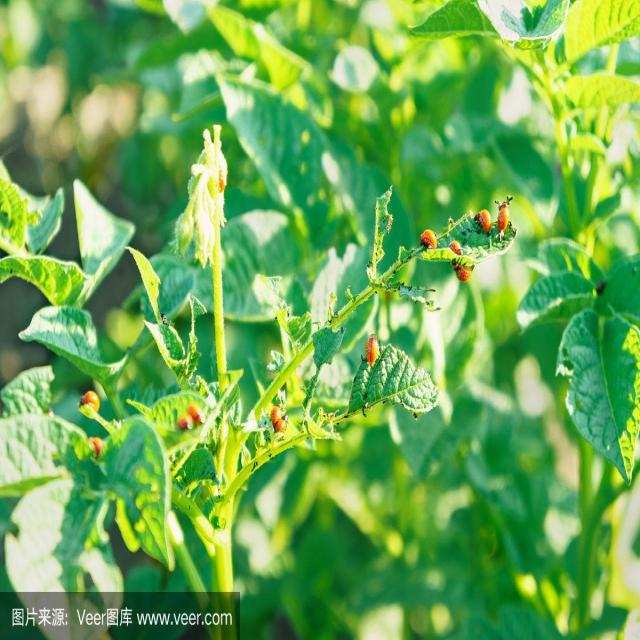ShuCaiHuaBanChong-Larva-: (78, 388, 109, 418), (365, 334, 388, 371), (416, 226, 446, 251), (497, 201, 515, 235), (474, 205, 492, 238), (450, 262, 477, 281), (275, 416, 292, 441), (448, 236, 463, 254), (271, 394, 281, 421)
